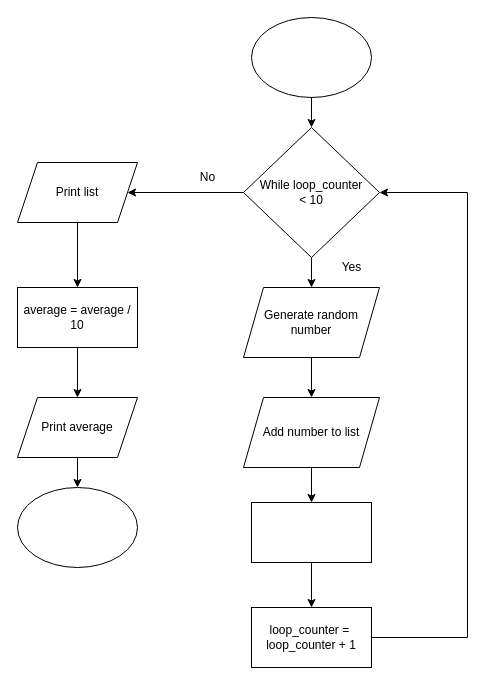
This 493x685 diagram has some shape labels left out. The centre of each missing label's shape, as x and y in pixels:
"Average = average + number" goes at [311,532].
"Start" goes at [311,57].
"Stop" goes at [77,527].
